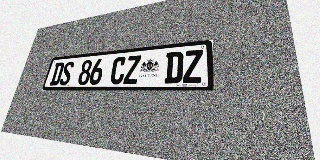6: (88, 58, 105, 85)
8: (77, 59, 94, 85)
C: (109, 56, 127, 84)
D: (164, 51, 184, 83), (49, 62, 65, 85)
S: (59, 61, 75, 85)
Z: (183, 49, 203, 83), (123, 55, 141, 84)
